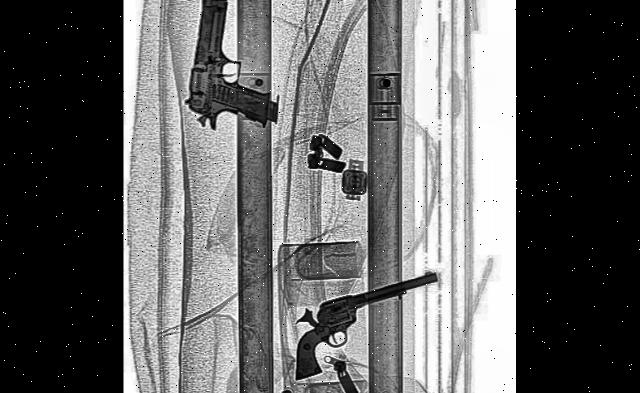Gun: (287, 266, 442, 379), (181, 0, 278, 148)
